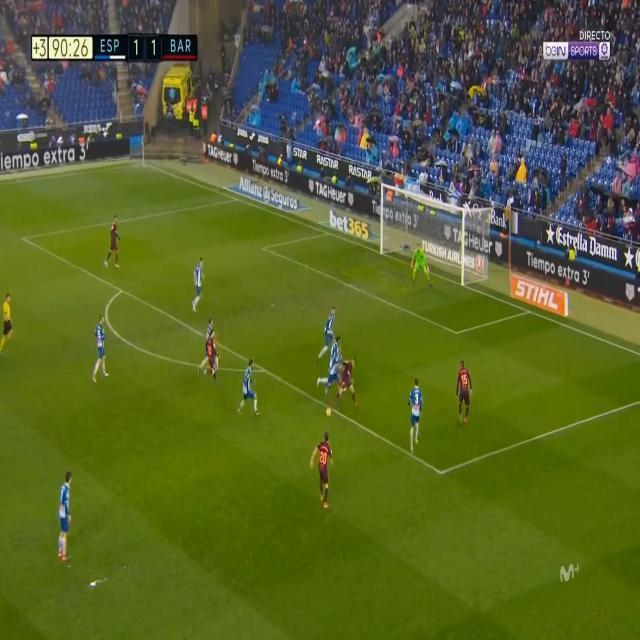Arbitre: (1, 287, 17, 355)
Ballon: (324, 400, 336, 425)
Gardien: (404, 233, 432, 290)
Joueur: (52, 465, 80, 569), (311, 427, 338, 512), (450, 356, 477, 431), (404, 376, 428, 452), (322, 341, 345, 406), (237, 353, 259, 418), (92, 312, 112, 383), (200, 318, 221, 383), (338, 349, 359, 406), (319, 303, 339, 358), (191, 254, 209, 313), (110, 215, 125, 270)
